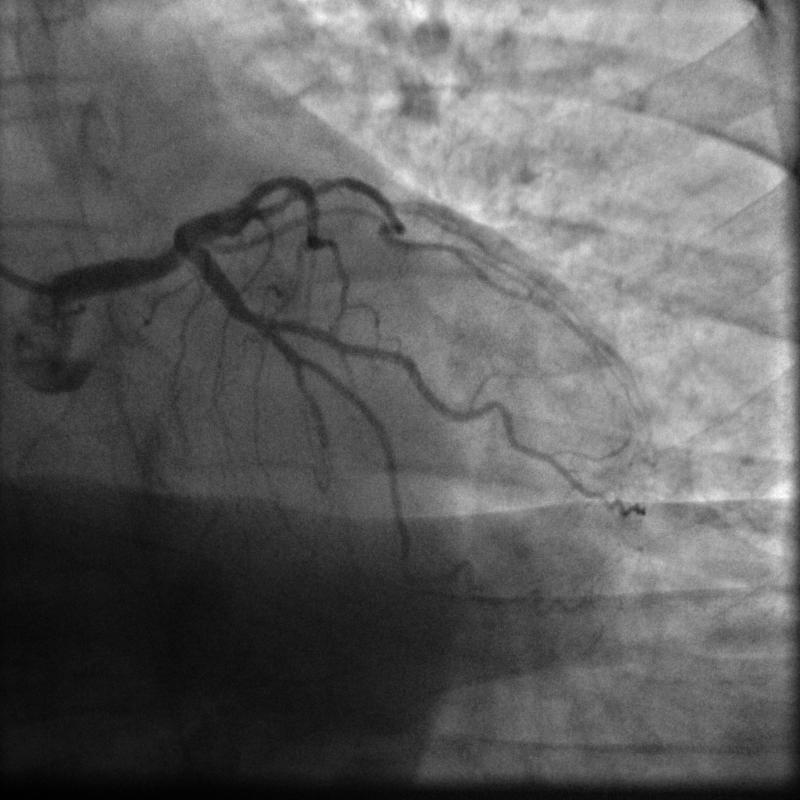Stenosis: (241, 295, 262, 337)
